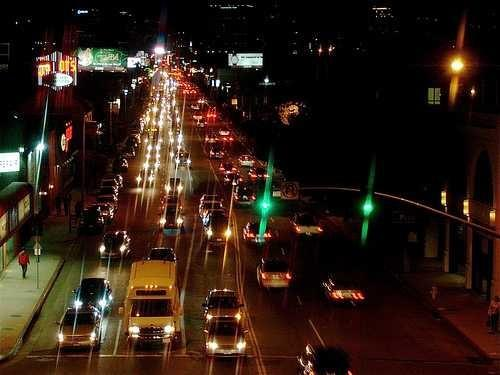green: (257, 183, 273, 218), (362, 181, 376, 221)
